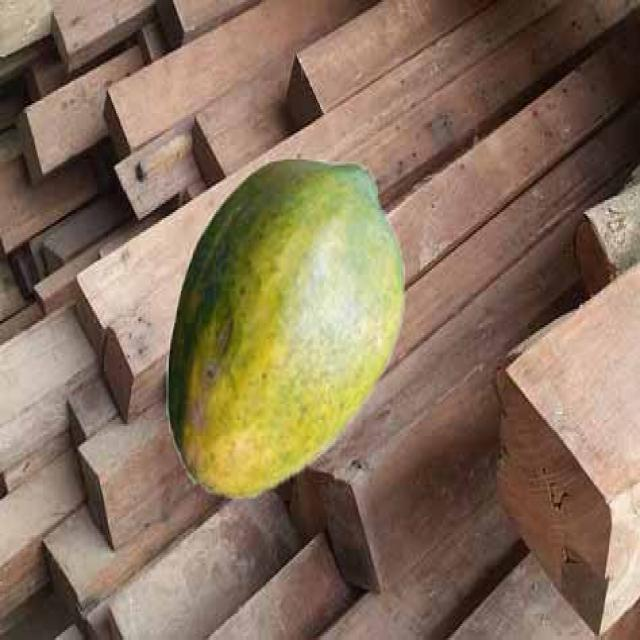Pepaya rippen: (167, 157, 404, 507)
